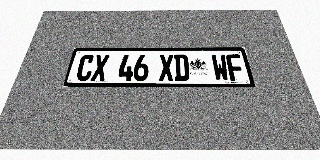4: (117, 54, 135, 81)
6: (133, 54, 149, 81)
C: (75, 55, 95, 81)
D: (174, 54, 190, 81)
F: (225, 54, 246, 81)
W: (211, 54, 230, 81)
X: (90, 55, 110, 81), (159, 54, 174, 81)
